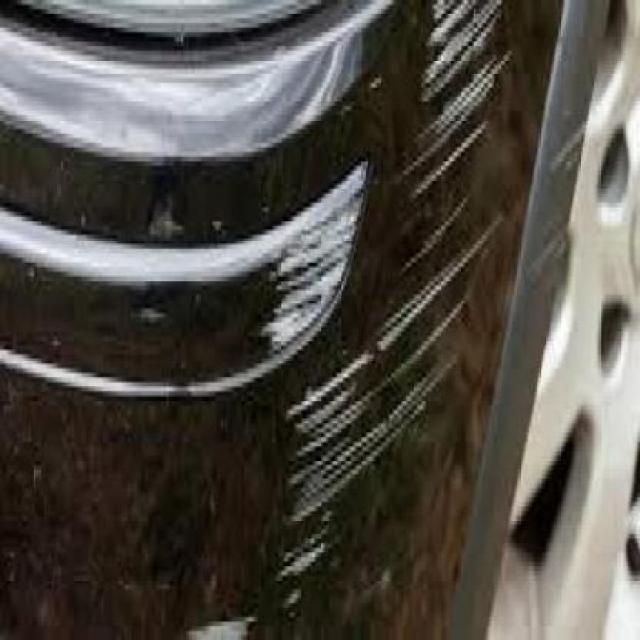damage: (276, 5, 507, 622), (265, 166, 368, 359)
